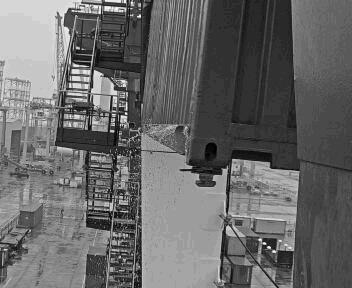twist_lock_1: (184, 156, 225, 194)
